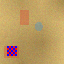person: (34, 22, 42, 31)
vehicle: (20, 10, 29, 25)
